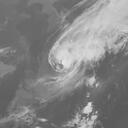cyclone: (47, 32, 92, 73)
